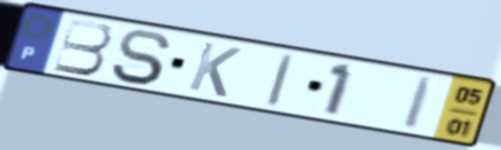1: (321, 62, 357, 119)
B: (50, 16, 115, 78)
I: (399, 74, 440, 134), (263, 51, 298, 110)
K: (185, 39, 245, 100)
S: (107, 27, 175, 87)
